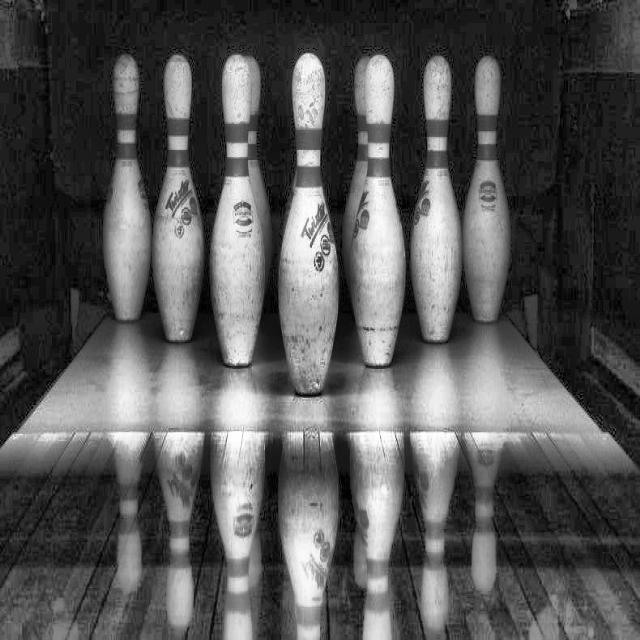bowling-pins: (279, 52, 339, 395), (350, 53, 407, 367), (209, 53, 265, 367), (152, 53, 204, 342), (412, 55, 463, 342), (103, 53, 151, 321), (464, 55, 511, 322), (343, 55, 370, 286), (247, 55, 271, 282)
